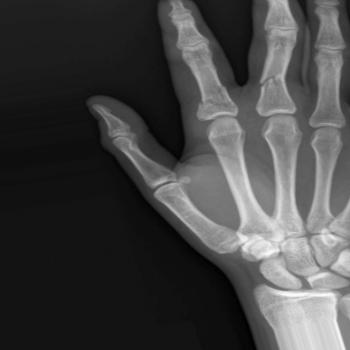Fracture: (194, 85, 238, 112), (250, 71, 293, 91)
